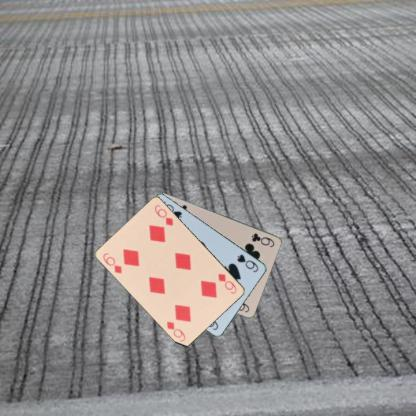6c: (249, 230, 276, 249)
6d: (100, 250, 124, 275), (215, 271, 238, 296)
6s: (235, 252, 260, 274)
